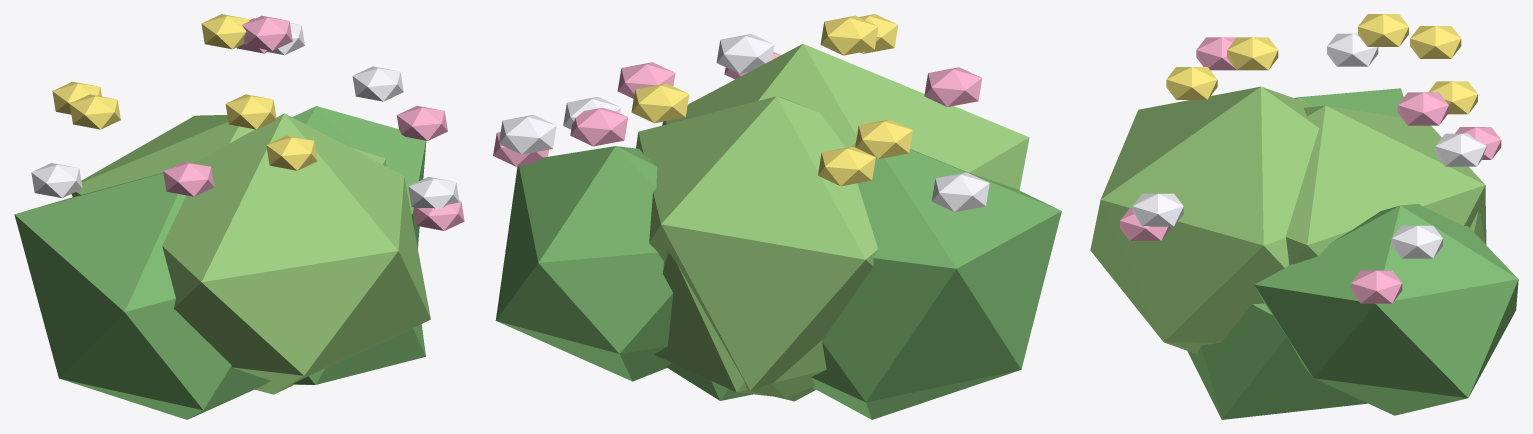
Rendered from flower_bush.glb.
3 views of the same model, side by side, from view 1: azimuth 30°, elevation 25°; view 2: azimuth 150°, elevation 25°; view 3: azimuth 270°, elevation 25° (orthographic). The views are drawn at different scales.
Visible parts, largest first — view 1: flower_bush; view 2: flower_bush; view 3: flower_bush.
Boxes of the visible parts, x1=… form: flower_bush: x1=14, y1=14, x2=464, y2=419; flower_bush: x1=493, y1=14, x2=1061, y2=419; flower_bush: x1=1090, y1=14, x2=1518, y2=419.
Bounding box in the file's own units: 1.7 × 1.26 × 1.42.
